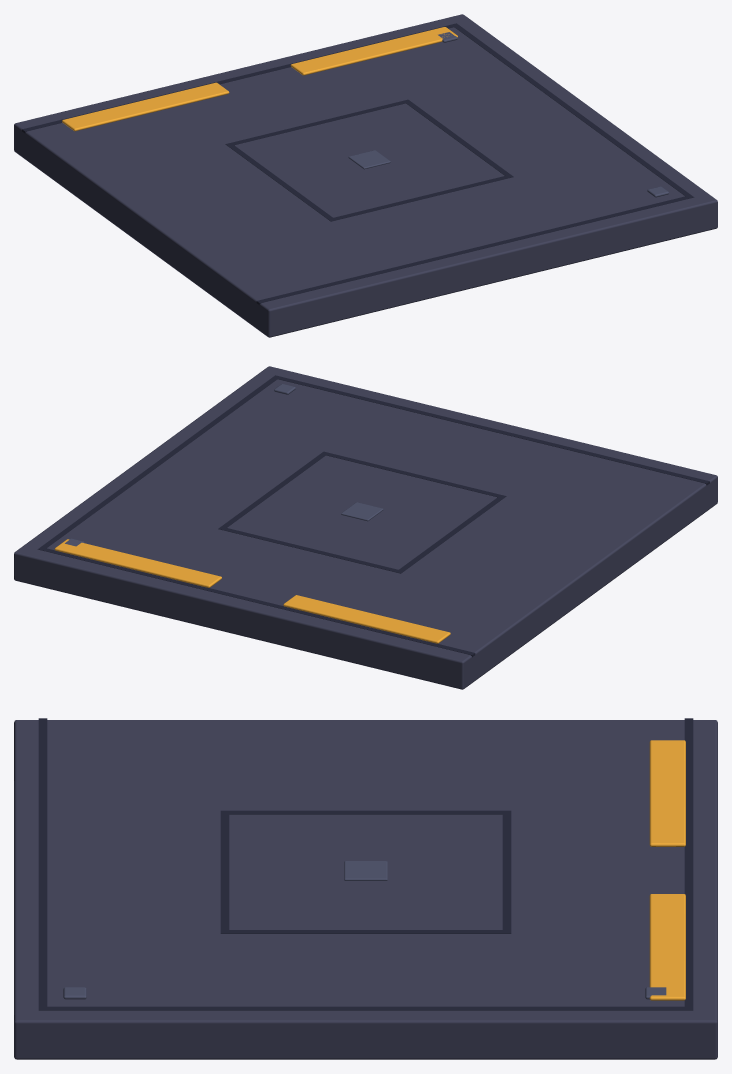
Rendered from floor.plate.ESN+sub+hzdn.glb.
3 views of the same model, one above another, from view 1: azimuth 30°, elevation 25°; view 2: azimuth 150°, elevation 25°; view 3: azimuth 270°, elevation 25° (orthographic). The views are drawn at different scales.
Visible parts, largest first — view 1: floor.plate.ESN+sub+hzdn; view 2: floor.plate.ESN+sub+hzdn; view 3: floor.plate.ESN+sub+hzdn.
Boxes of the visible parts, x1,y1,x2,y2 form: floor.plate.ESN+sub+hzdn: (14, 14, 717, 337); floor.plate.ESN+sub+hzdn: (14, 366, 717, 689); floor.plate.ESN+sub+hzdn: (14, 718, 717, 1059).
Size of the model in its own units: 0.984 by 0.066 by 0.968.
